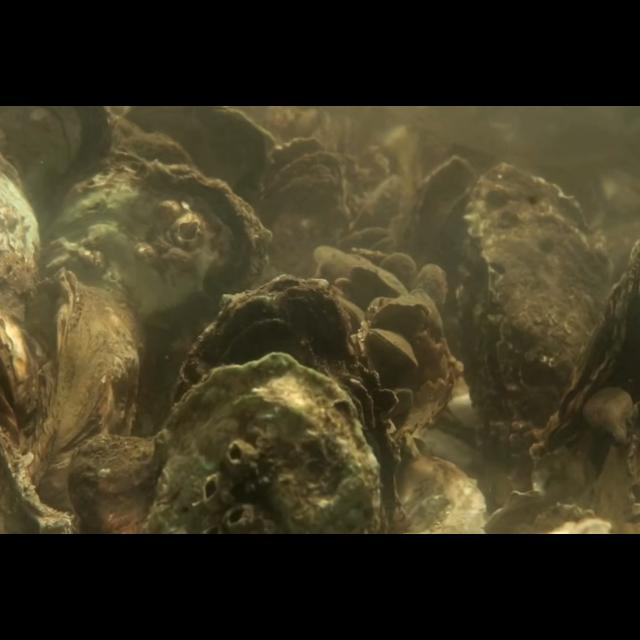Oyster-Closed: (42, 157, 270, 430), (166, 273, 398, 535), (144, 352, 382, 534), (29, 267, 141, 535), (398, 154, 476, 310), (347, 262, 407, 298), (378, 251, 419, 299), (374, 297, 432, 329), (414, 262, 448, 314)
Oyster-Open: (454, 161, 610, 457), (522, 234, 640, 502), (254, 136, 350, 272), (368, 327, 418, 369)
